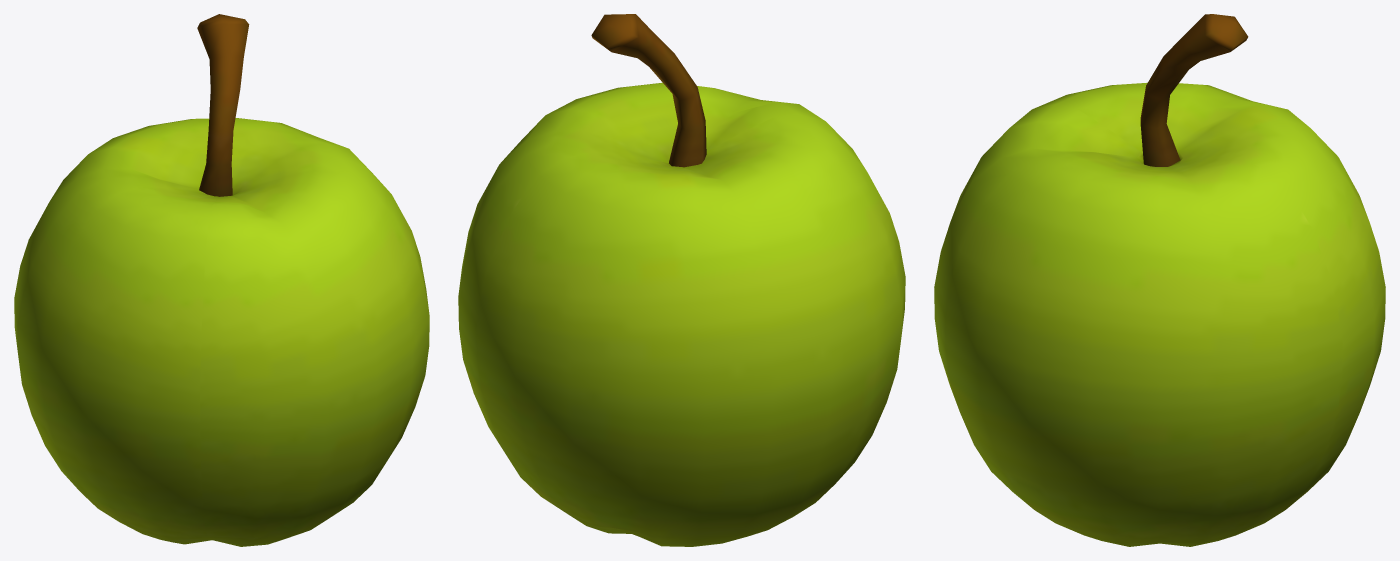
Rendered from manzanaVerdeG.glb.
The picture shows the model from 3 angles, left to right: view 1: azimuth 30°, elevation 25°; view 2: azimuth 150°, elevation 25°; view 3: azimuth 270°, elevation 25°; orthographic projection. The views are drawn at different scales.
Visible parts, largest first — view 1: Apple; view 2: Apple; view 3: Apple.
Part boxes in pixels (<box>): Apple: <box>14,14,429,546</box>; Apple: <box>458,14,905,546</box>; Apple: <box>934,14,1385,546</box>.
Size of the model in its own units: 11.11 by 14.03 by 11.11.
1 material, 1 textured.
